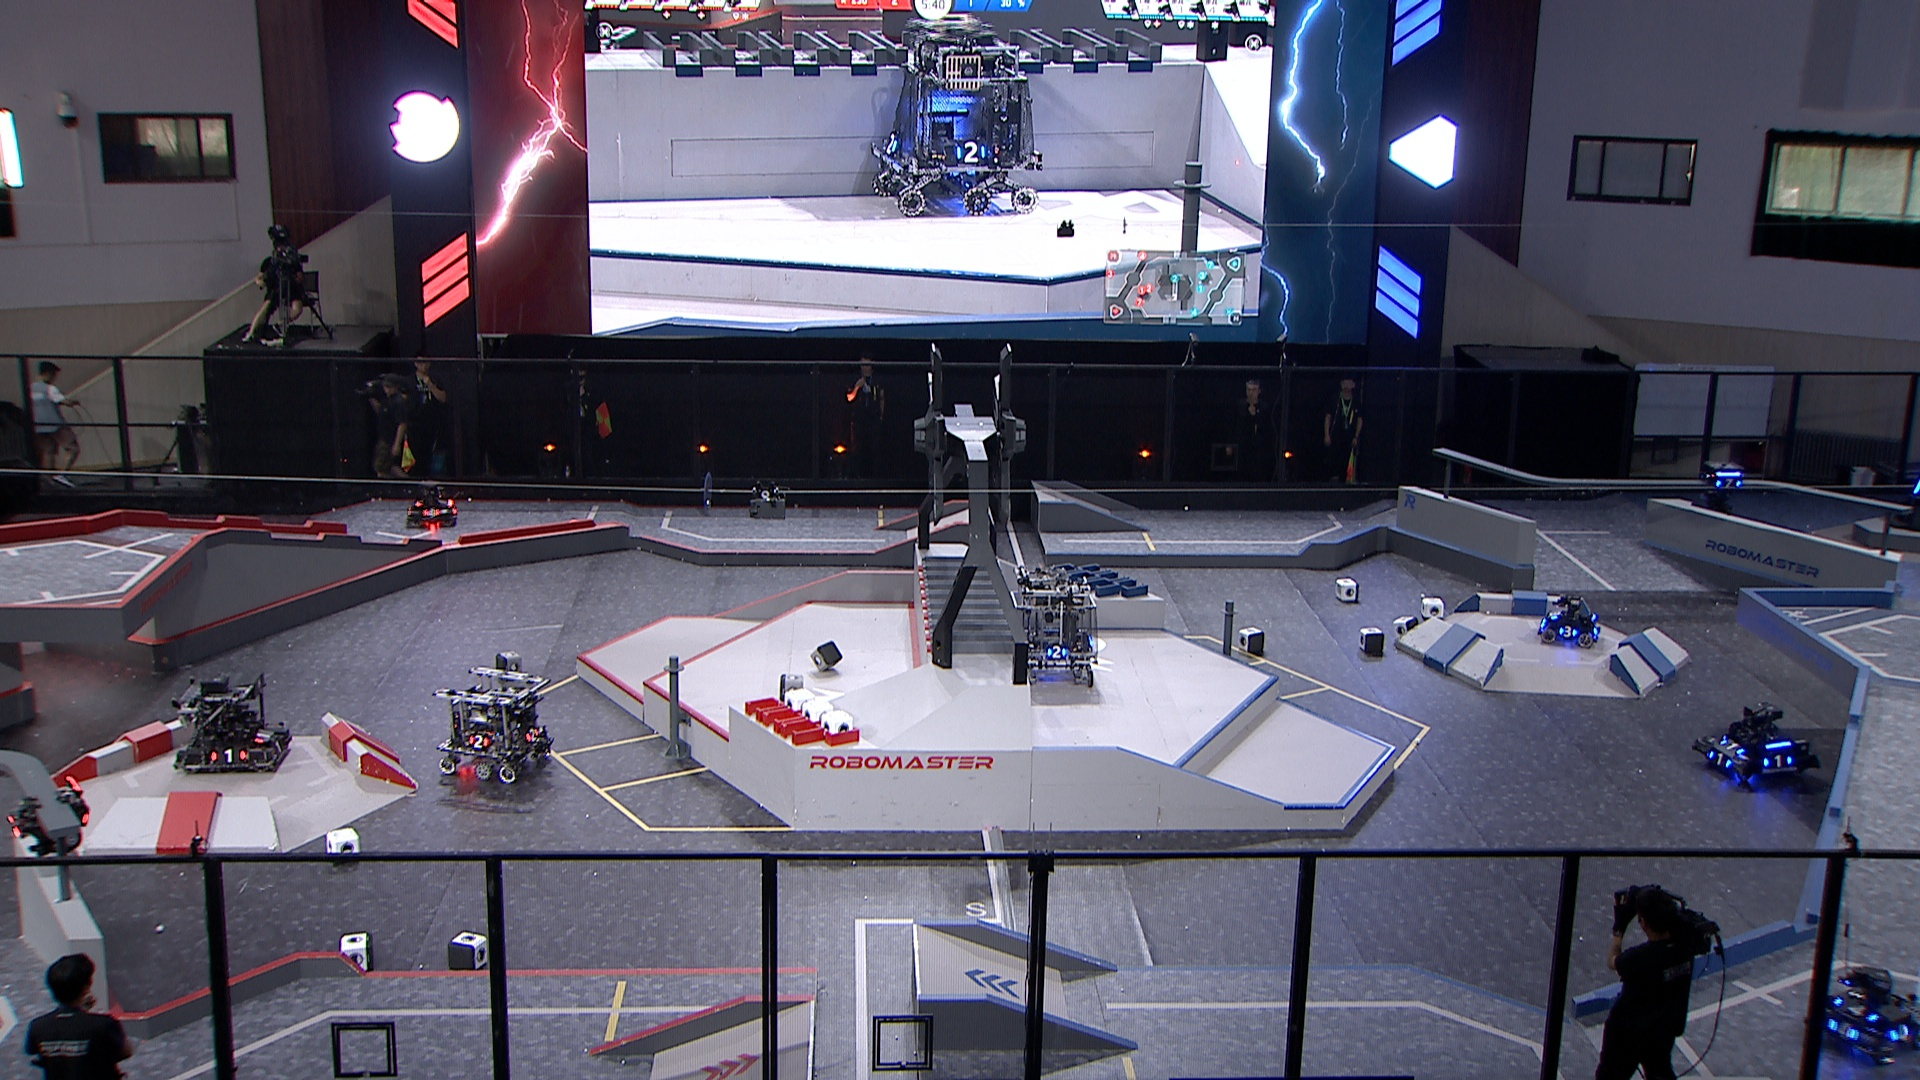armor: (1832, 997, 1883, 1025), (1828, 1021, 1859, 1043), (207, 749, 248, 766), (7, 814, 26, 841), (1706, 752, 1733, 771), (1762, 754, 1793, 769), (467, 733, 493, 750), (1890, 1025, 1912, 1044), (1720, 738, 1745, 756), (1716, 476, 1743, 491), (252, 728, 272, 746), (269, 738, 287, 757), (524, 728, 542, 745), (1048, 644, 1067, 661), (1557, 626, 1578, 640), (422, 506, 442, 520), (1547, 609, 1563, 622), (1912, 479, 1920, 495)
base: (1888, 443, 1920, 535)
car: (430, 661, 555, 789), (171, 673, 294, 774), (1013, 566, 1102, 690), (1807, 963, 1920, 1060), (1695, 702, 1818, 785), (1538, 597, 1604, 651), (405, 485, 460, 531)
ignore: (865, 16, 1043, 219)
watcher: (5, 775, 92, 858), (1700, 462, 1746, 512)
